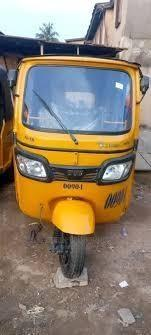keke: (12, 51, 148, 278)
